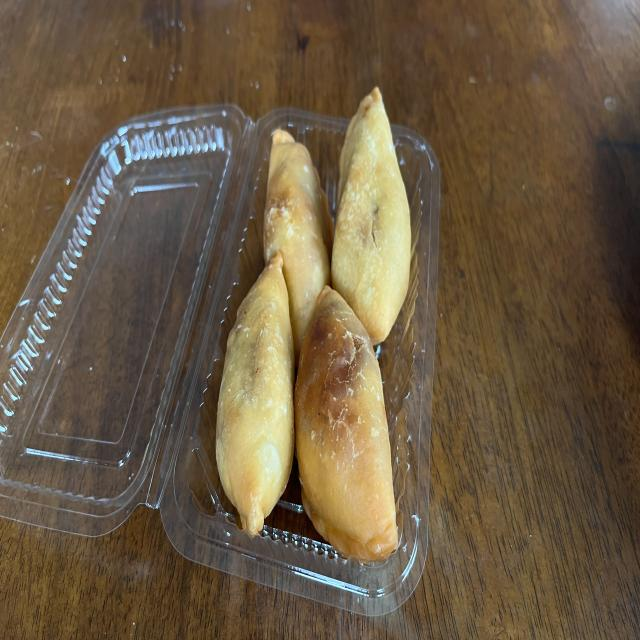karipap: (295, 287, 399, 562), (216, 253, 294, 536), (331, 87, 411, 344), (264, 129, 334, 364)
